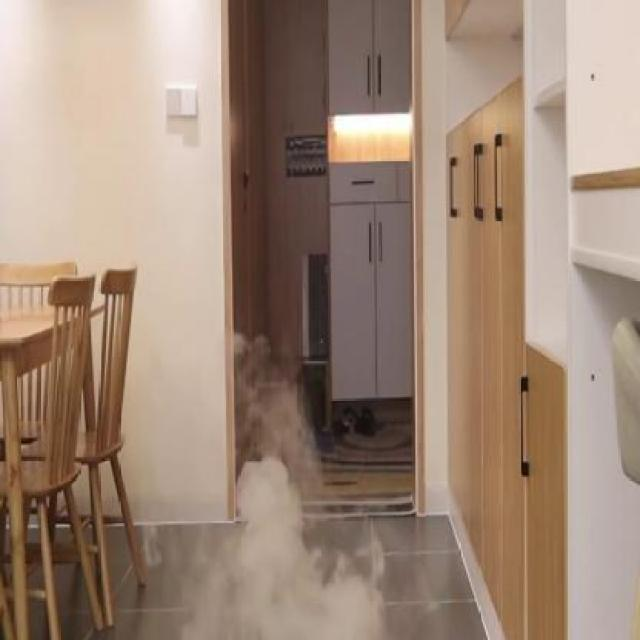smoke: (224, 321, 392, 640)
